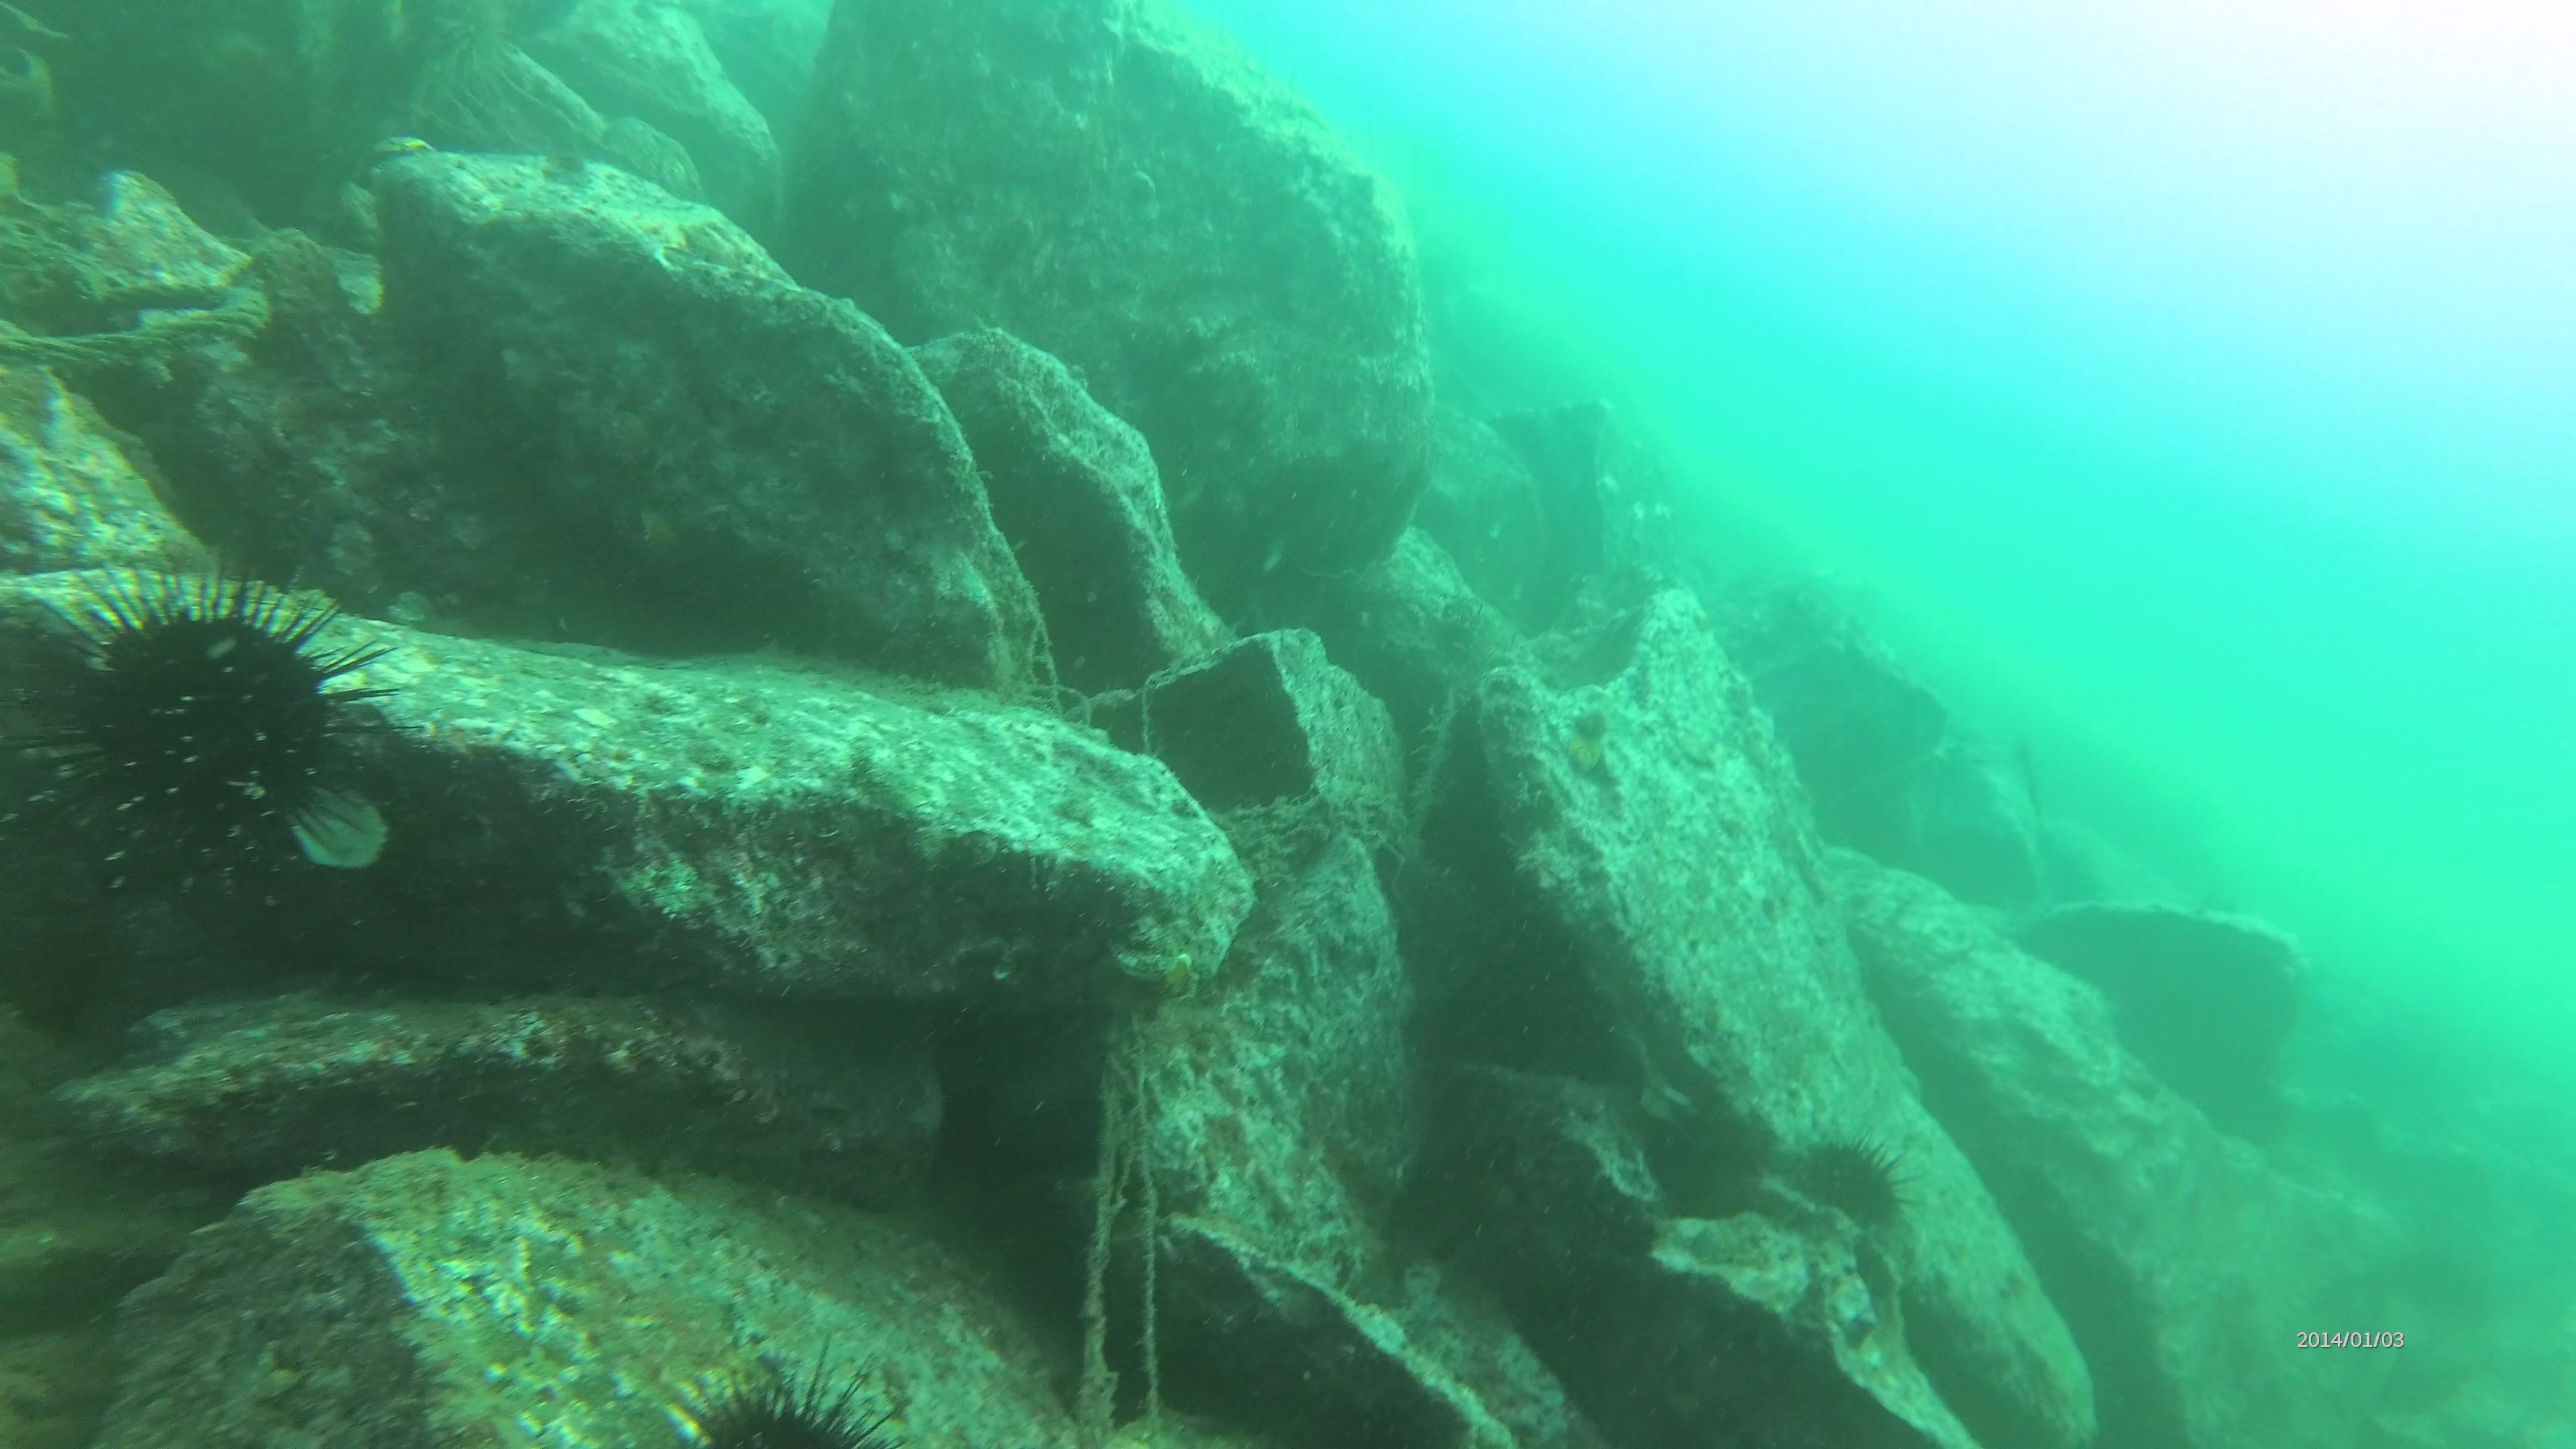echinus: (30, 586, 363, 892), (688, 1376, 909, 1449), (1810, 1131, 1914, 1230)
